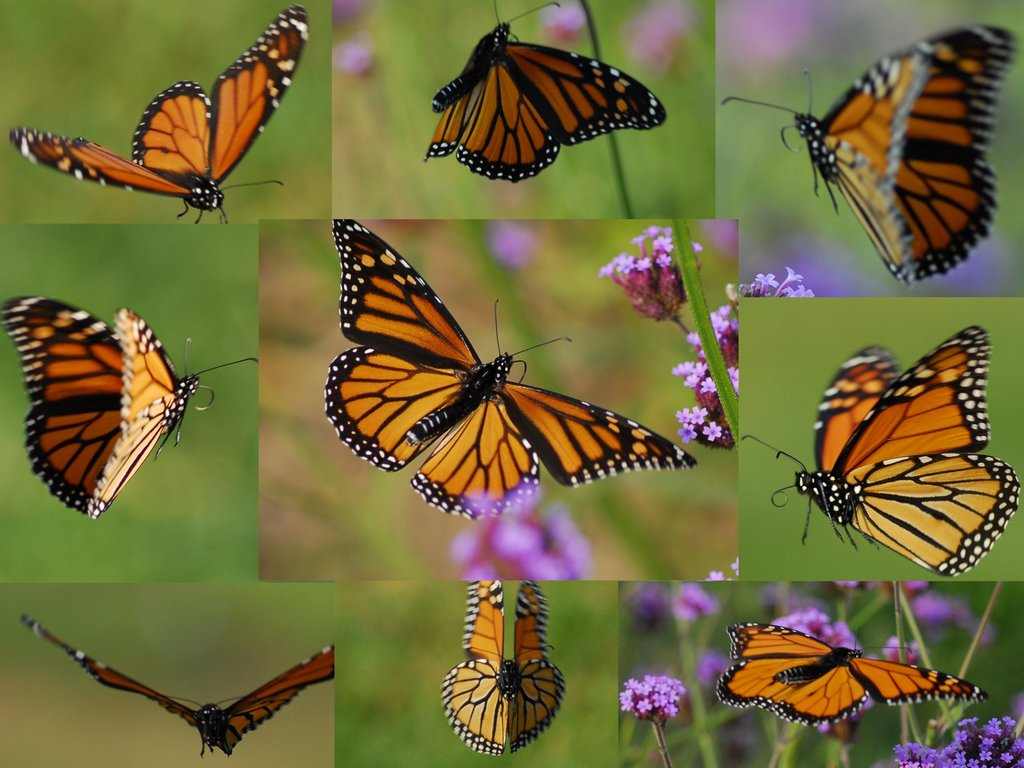Butterfly: (285, 208, 708, 548), (761, 3, 1024, 309), (765, 316, 1022, 570), (15, 1, 291, 218), (29, 599, 334, 768), (11, 270, 221, 515), (420, 4, 675, 176), (711, 595, 968, 753), (432, 575, 597, 757)
